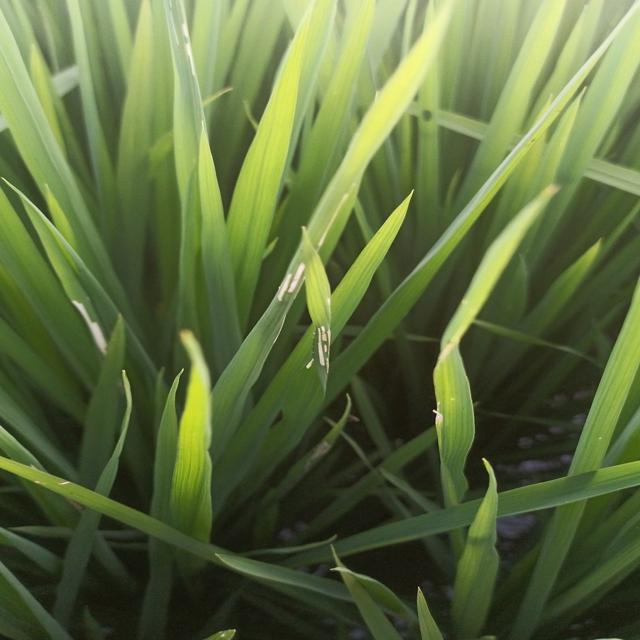brown plant hopper: (65, 282, 114, 361), (308, 317, 349, 390), (270, 251, 314, 304)
